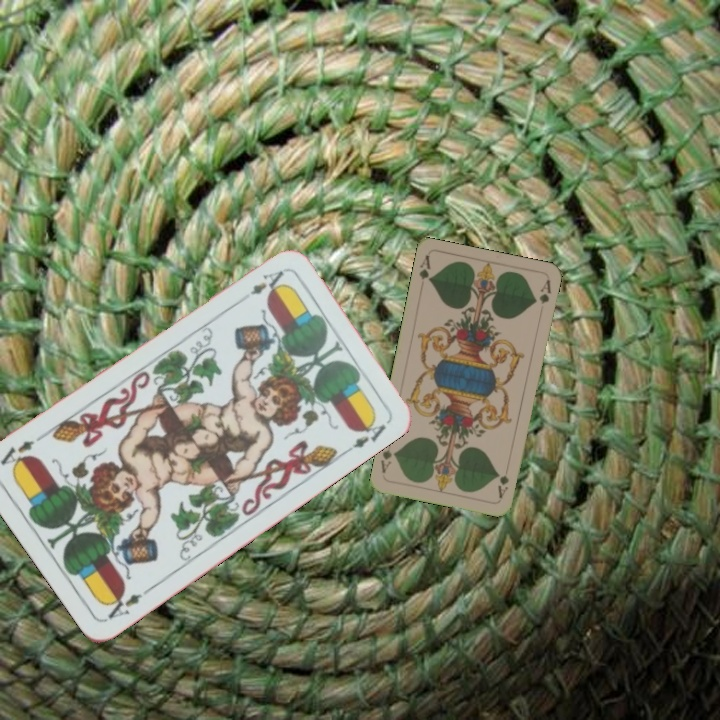EA: (234, 266, 287, 306), (102, 583, 154, 622)
GA: (494, 461, 512, 501), (415, 252, 434, 284)
